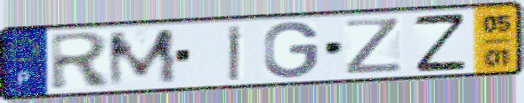G: (261, 20, 322, 81)
I: (226, 23, 245, 83)
M: (105, 26, 181, 89)
R: (47, 30, 115, 93)
Z: (343, 16, 406, 77), (411, 11, 470, 74)
